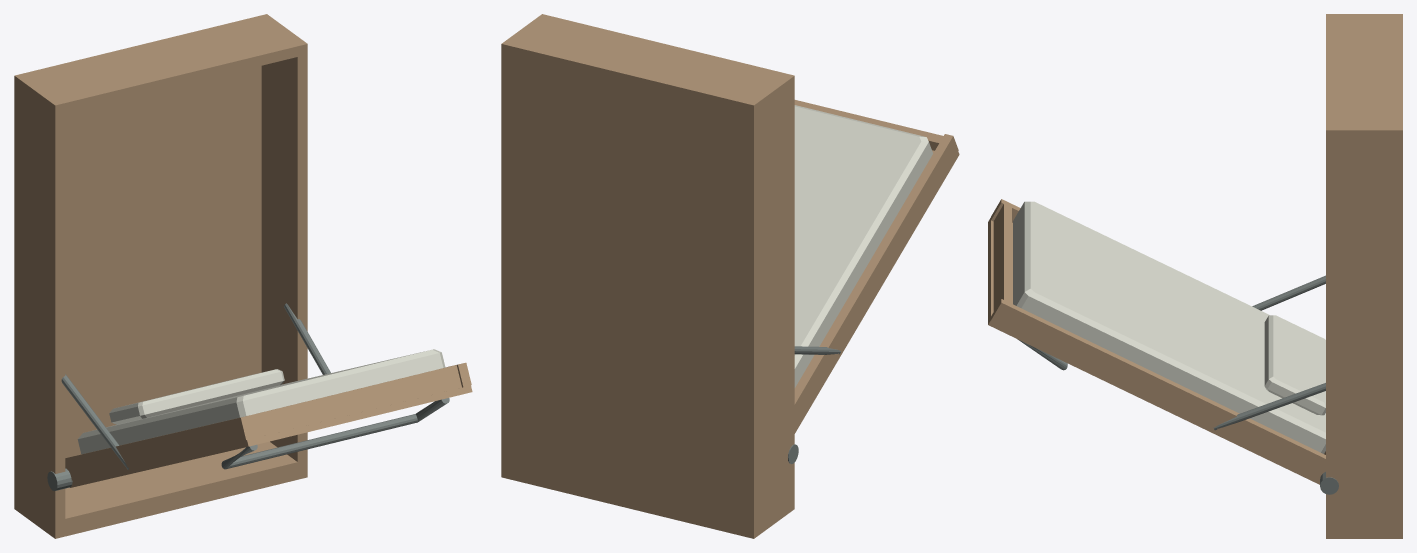
The picture shows the model from 3 angles, left to right: view 1: azimuth 30°, elevation 25°; view 2: azimuth 150°, elevation 25°; view 3: azimuth 270°, elevation 25°; orthographic projection. The views are drawn at different scales.
Parts seen in each view (by area): view 1: WholeTallOpenBedStorageCabinet, WholeBevelledMattress, WholeBedEndRail_Foot, WholeBedSideRail_-1, WholeHeadPillow, WholeBedClosurePanel, WholeTuckedFootFrame, WholeFixedLiftStay_-1, WholeFixedLiftStay_1; view 2: WholeTallOpenBedStorageCabinet, WholeBevelledMattress, WholeBedSideRail_-1, WholeBedClosurePanel, WholeBedEndRail_Foot; view 3: WholeTallOpenBedStorageCabinet, WholeBevelledMattress, WholeBedSideRail_1, WholeHeadPillow, WholeBedClosurePanel, WholeBedEndRail_Foot, WholeFixedLiftStay_1, WholeFixedLiftStay_-1.
Part boxes in pixels (<box>): WholeTallOpenBedStorageCabinet: <box>14,14,307,538</box>; WholeBevelledMattress: <box>77,349,445,454</box>; WholeBedEndRail_Foot: <box>249,365,461,437</box>; WholeBedSideRail_-1: <box>65,415,254,480</box>; WholeHeadPillow: <box>109,369,284,424</box>; WholeBedClosurePanel: <box>70,385,472,487</box>; WholeTuckedFootFrame: <box>221,398,449,469</box>; WholeFixedLiftStay_-1: <box>61,374,128,469</box>; WholeFixedLiftStay_1: <box>284,303,330,374</box>; WholeTallOpenBedStorageCabinet: <box>501,14,794,538</box>; WholeBevelledMattress: <box>794,105,932,387</box>; WholeBedSideRail_-1: <box>794,134,958,428</box>; WholeBedClosurePanel: <box>794,151,959,433</box>; WholeBedEndRail_Foot: <box>794,100,943,150</box>; WholeTallOpenBedStorageCabinet: <box>1326,14,1402,538</box>; WholeBevelledMattress: <box>1013,201,1325,453</box>; WholeBedSideRail_1: <box>991,299,1325,478</box>; WholeHeadPillow: <box>1264,315,1325,415</box>; WholeBedClosurePanel: <box>988,217,1319,484</box>; WholeBedEndRail_Foot: <box>993,204,1011,311</box>; WholeFixedLiftStay_1: <box>1213,383,1325,430</box>; WholeFixedLiftStay_-1: <box>1252,275,1325,310</box>.
Bounding box in the file's own units: 1.51 × 2.46 × 2.26.
